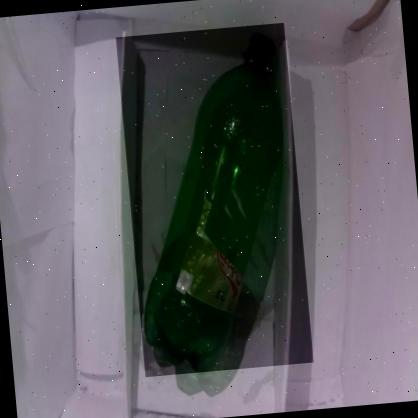bottle: (116, 23, 314, 377)
